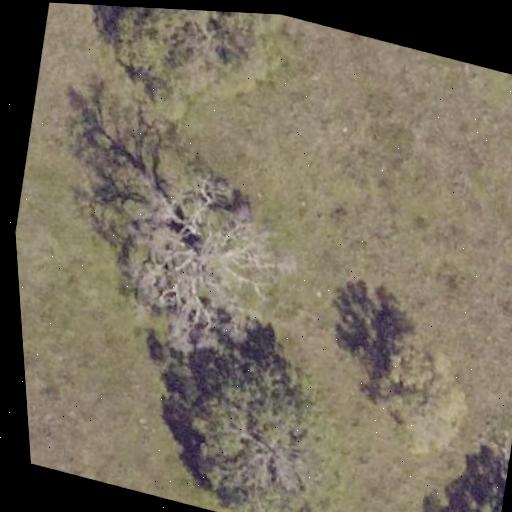tree-top: (79, 148, 313, 376), (152, 341, 380, 512), (62, 3, 317, 152), (349, 323, 487, 467), (404, 468, 506, 512)
